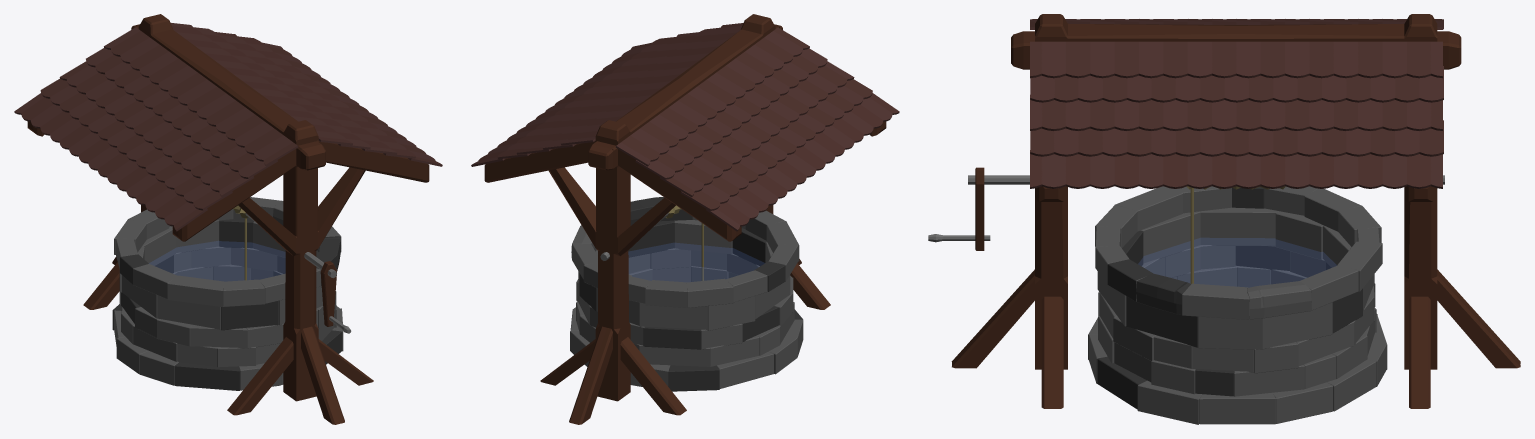
Rendered from Puit Low Poly.fbx.
The picture shows the model from 3 angles, left to right: view 1: azimuth 30°, elevation 25°; view 2: azimuth 150°, elevation 25°; view 3: azimuth 270°, elevation 25°; orthographic projection. The views are drawn at different scales.
Parts seen in each view (by area): view 1: Tuiles, Puit, Poteaux, SurfaceEau, Manivelle; view 2: Tuiles, Puit, Poteaux, SurfaceEau; view 3: Tuiles, Puit, Poteaux, SurfaceEau, Manivelle.
Part boxes in pixels (x1,y1,x2,y2): Tuiles: (14, 23, 442, 231); Puit: (112, 197, 343, 390); Poteaux: (27, 14, 429, 424); SurfaceEau: (149, 241, 284, 280); Manivelle: (245, 213, 351, 333); Tuiles: (471, 23, 899, 231); Puit: (570, 197, 803, 391); Poteaux: (484, 14, 886, 424); SurfaceEau: (629, 243, 763, 281); Tuiles: (1030, 19, 1443, 188); Puit: (1088, 186, 1387, 424); Poteaux: (951, 14, 1520, 408); SurfaceEau: (1139, 238, 1336, 286); Manivelle: (928, 167, 1444, 250).
Bounding box in the file's own units: 1344 × 868 × 892.
